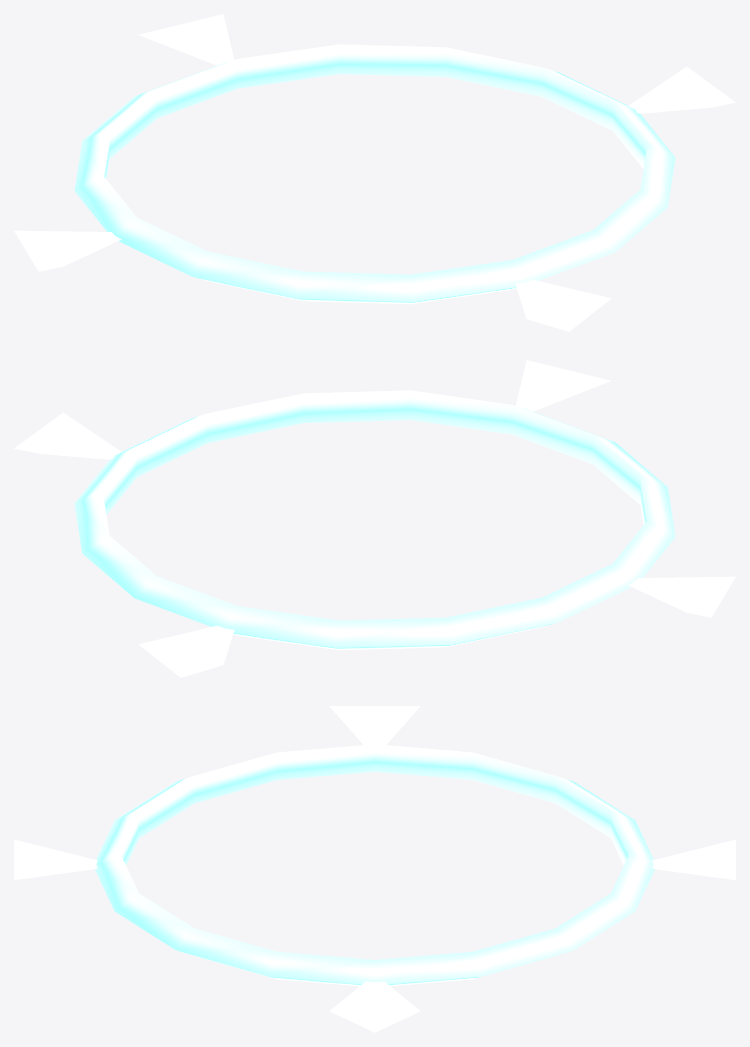
Rendered from fx_click_marker.glb.
3 views of the same model, one above another, from view 1: azimuth 30°, elevation 25°; view 2: azimuth 150°, elevation 25°; view 3: azimuth 270°, elevation 25° (orthographic). The views are drawn at different scales.
Parts seen in each view (by area): view 1: ring_clickRing, arrows_clickArrow; view 2: ring_clickRing, arrows_clickArrow; view 3: ring_clickRing, arrows_clickArrow.
Part boxes in pixels (x1,y1,x2,y2): ring_clickRing: (74,44,675,304); arrows_clickArrow: (14,14,735,331); ring_clickRing: (74,390,675,650); arrows_clickArrow: (14,360,735,677); ring_clickRing: (95,744,654,986); arrows_clickArrow: (14,706,735,1032).
Size of the model in its own units: 0.82 by 0.0353 by 0.82.
